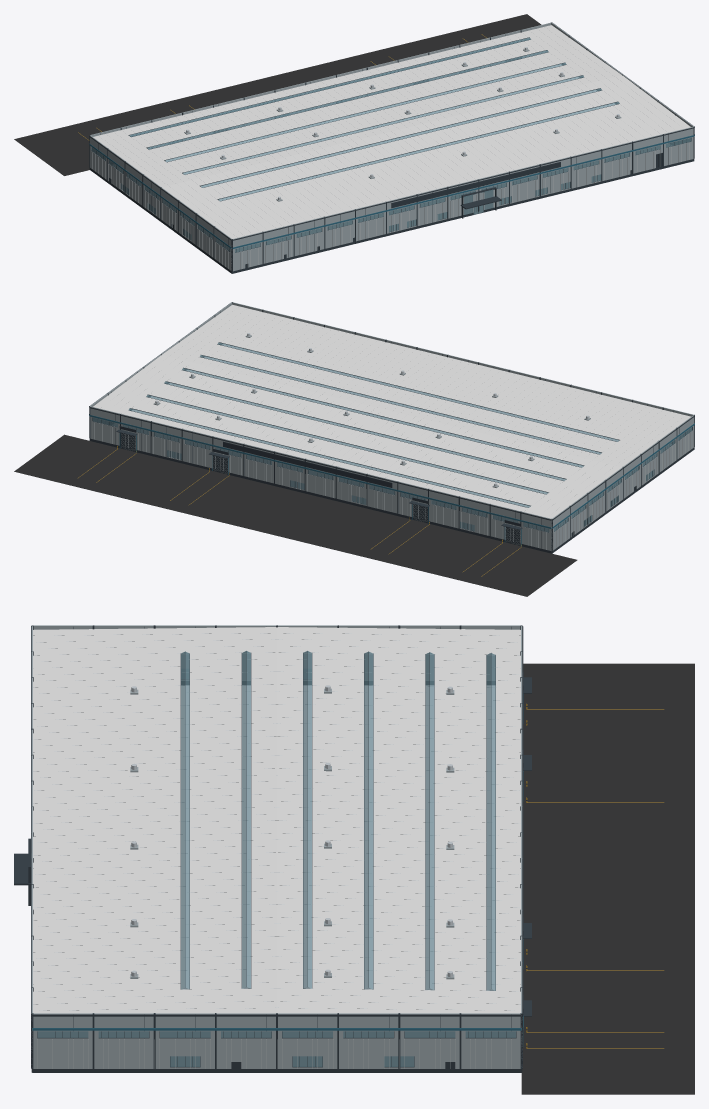
File: exterior.glb
3 views of the same model, one above another, from view 1: azimuth 30°, elevation 25°; view 2: azimuth 150°, elevation 25°; view 3: azimuth 270°, elevation 25° (orthographic). The views are drawn at different scales.
Visible parts, largest first — view 1: WEB-ROOF-01, WEB-VISUAL-67fddf78ef985cfd, WEB-VISUAL-6f45fad219d26c11, WEB-VISUAL-2c361ed33dda3c35, WEB-VISUAL-926bb9197ea04d17; view 2: WEB-ROOF-01, WEB-VISUAL-6f45fad219d26c11, WEB-VISUAL-67fddf78ef985cfd, WEB-VISUAL-2c361ed33dda3c35, WEB-VISUAL-926bb9197ea04d17; view 3: WEB-ROOF-01, WEB-VISUAL-6f45fad219d26c11, WEB-VISUAL-67fddf78ef985cfd, WEB-VISUAL-2c361ed33dda3c35, WEB-VISUAL-926bb9197ea04d17.
Boxes of the visible parts, x1=… form: WEB-ROOF-01: x1=93, y1=25, x2=690, y2=238; WEB-VISUAL-67fddf78ef985cfd: x1=89, y1=22, x2=694, y2=273; WEB-VISUAL-6f45fad219d26c11: x1=14, y1=14, x2=541, y2=175; WEB-VISUAL-2c361ed33dda3c35: x1=128, y1=37, x2=666, y2=235; WEB-VISUAL-926bb9197ea04d17: x1=89, y1=23, x2=694, y2=269; WEB-ROOF-01: x1=93, y1=304, x2=690, y2=518; WEB-VISUAL-6f45fad219d26c11: x1=14, y1=434, x2=577, y2=596; WEB-VISUAL-67fddf78ef985cfd: x1=89, y1=302, x2=694, y2=553; WEB-VISUAL-2c361ed33dda3c35: x1=101, y1=333, x2=619, y2=510; WEB-VISUAL-926bb9197ea04d17: x1=89, y1=303, x2=694, y2=549; WEB-ROOF-01: x1=33, y1=627, x2=520, y2=1013; WEB-VISUAL-6f45fad219d26c11: x1=521, y1=663, x2=694, y2=1094; WEB-VISUAL-67fddf78ef985cfd: x1=14, y1=625, x2=522, y2=1072; WEB-VISUAL-2c361ed33dda3c35: x1=33, y1=633, x2=520, y2=1010; WEB-VISUAL-926bb9197ea04d17: x1=31, y1=626, x2=531, y2=1068.
Size of what is drawn, in the model's own units: 200 by 13.79 by 134.
